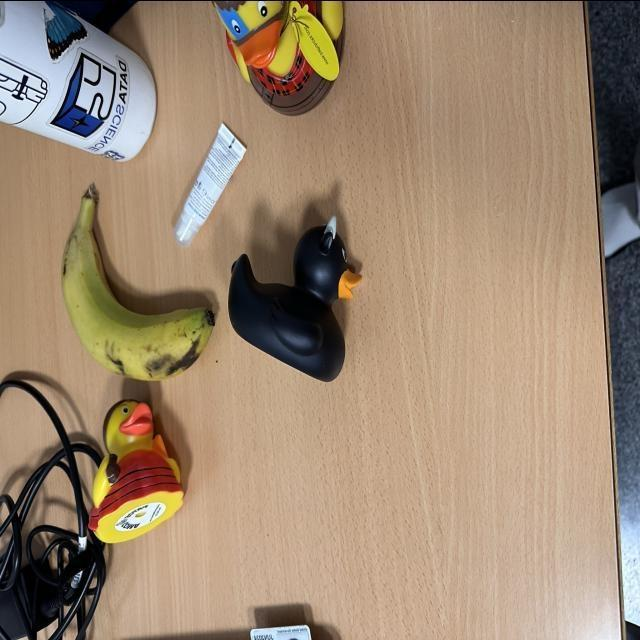rubber-duck: (228, 215, 359, 379), (213, 0, 342, 113), (88, 399, 182, 541)
